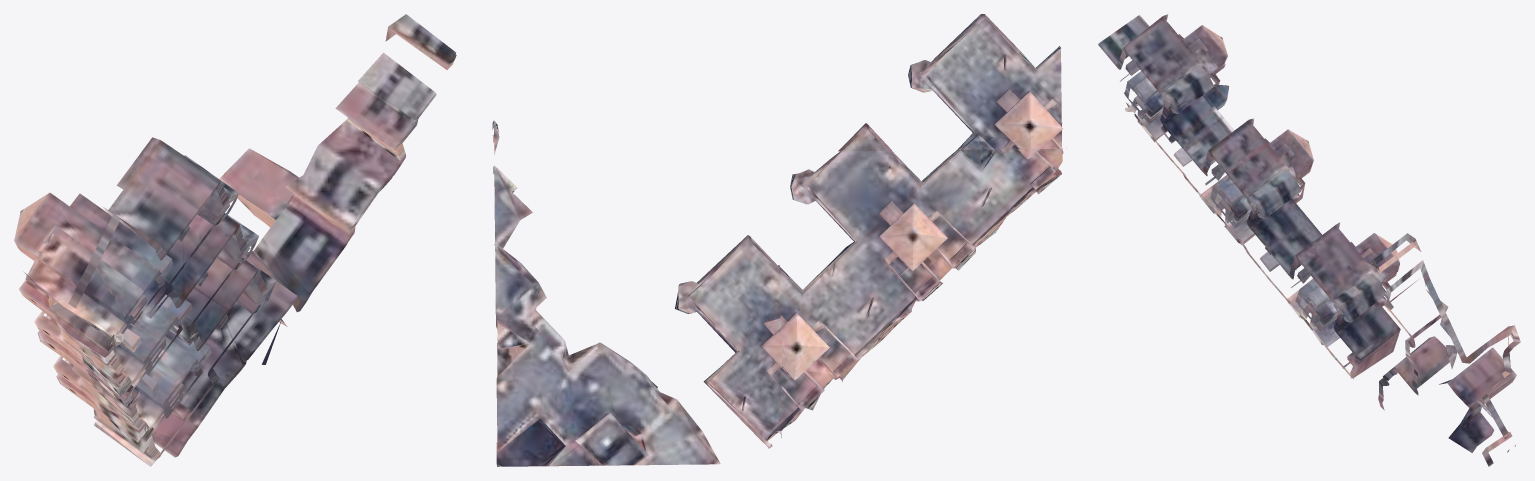
3 renders of one model, left to right at view 1: azimuth 30°, elevation 25°; view 2: azimuth 150°, elevation 25°; view 3: azimuth 270°, elevation 25°, orthographic. The views are drawn at different scales.
Size of the model in its own units: 66.43 by 53.03 by 60.63.
1 material, 1 textured.
